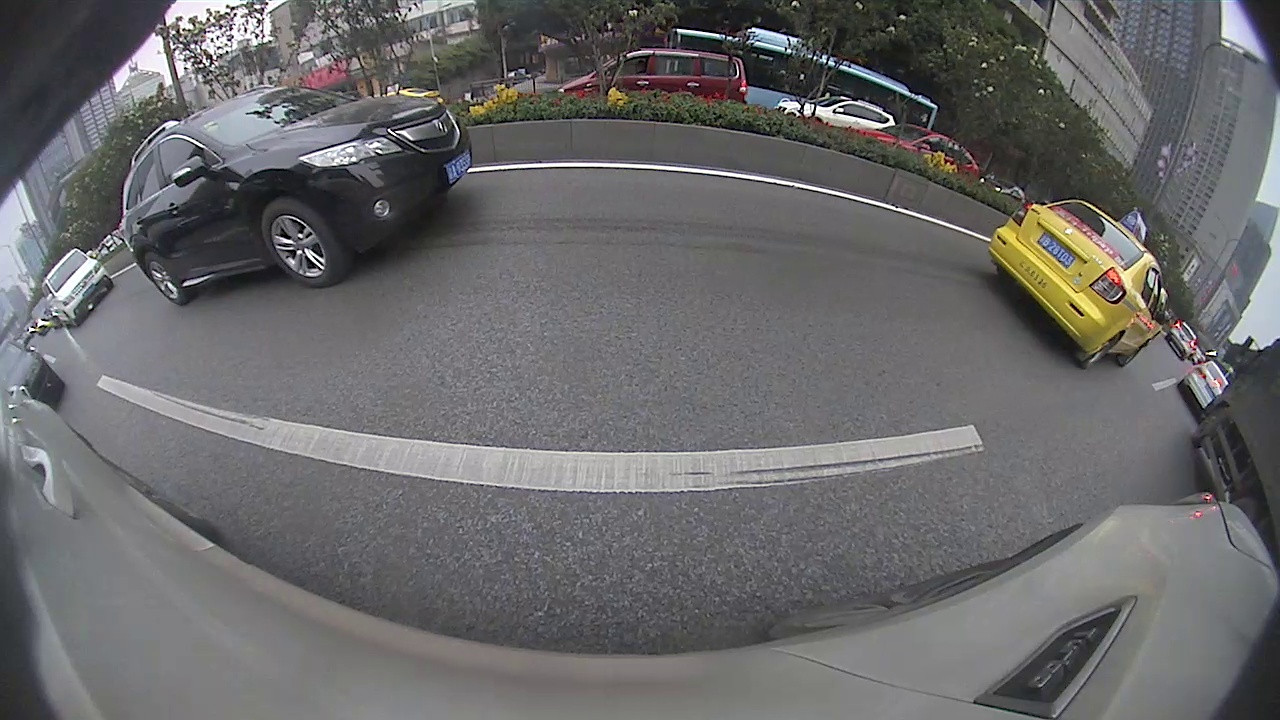car: (121, 87, 470, 306), (988, 198, 1168, 369), (36, 248, 112, 327), (1182, 358, 1229, 410), (1170, 320, 1197, 358)
front: (260, 200, 338, 287)
rear: (142, 251, 185, 304), (1083, 332, 1123, 366)
